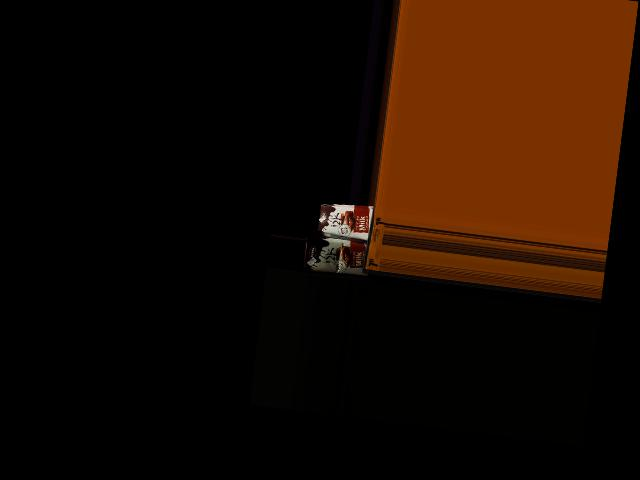chocolate: (315, 196, 380, 241)
